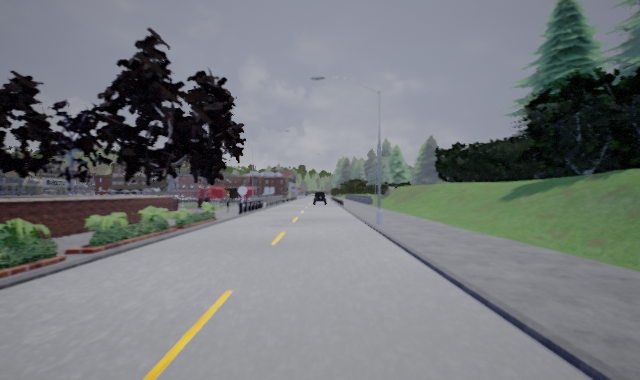pedestrian: (223, 189, 234, 212)
vehicle: (312, 192, 327, 204)
